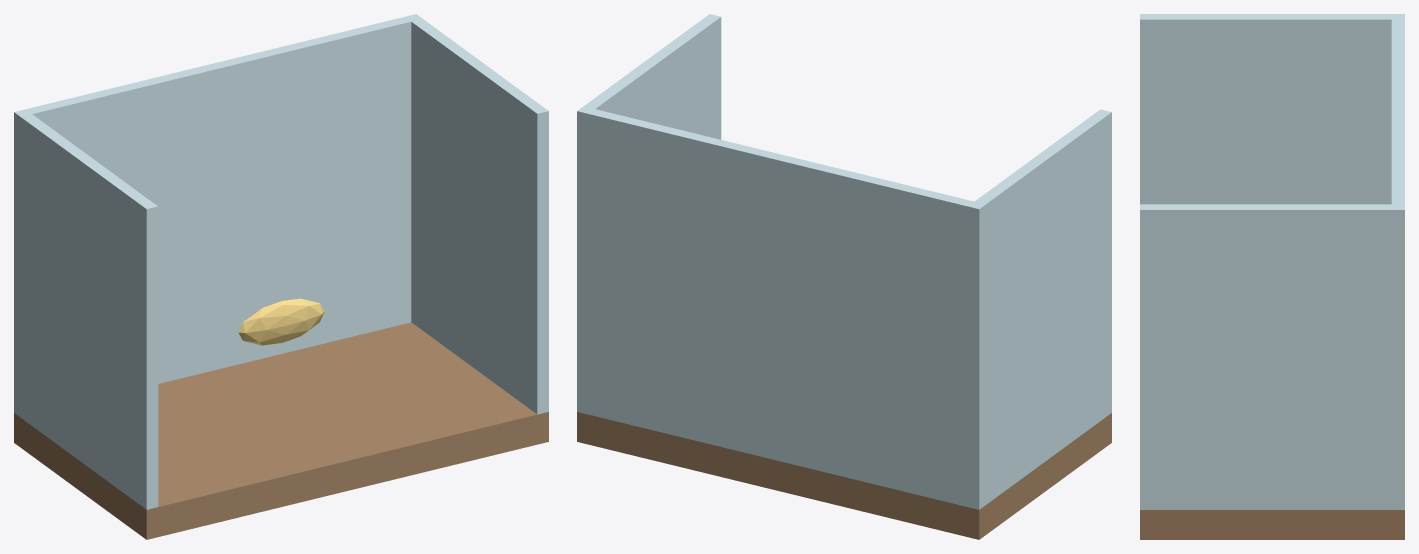
The model's file is cozy-home-interiors-aquarium-60b88695.glb.
3 views of the same model, side by side, from view 1: azimuth 30°, elevation 25°; view 2: azimuth 150°, elevation 25°; view 3: azimuth 270°, elevation 25° (orthographic).
Visible parts, largest first — view 1: aquarium; view 2: aquarium; view 3: aquarium.
Part boxes in pixels (x1,y1,x2,y2): aquarium: [14, 14, 548, 539]; aquarium: [577, 14, 1111, 539]; aquarium: [1140, 14, 1404, 539].
Size of the model in its own units: 0.7 by 0.55 by 0.4.
